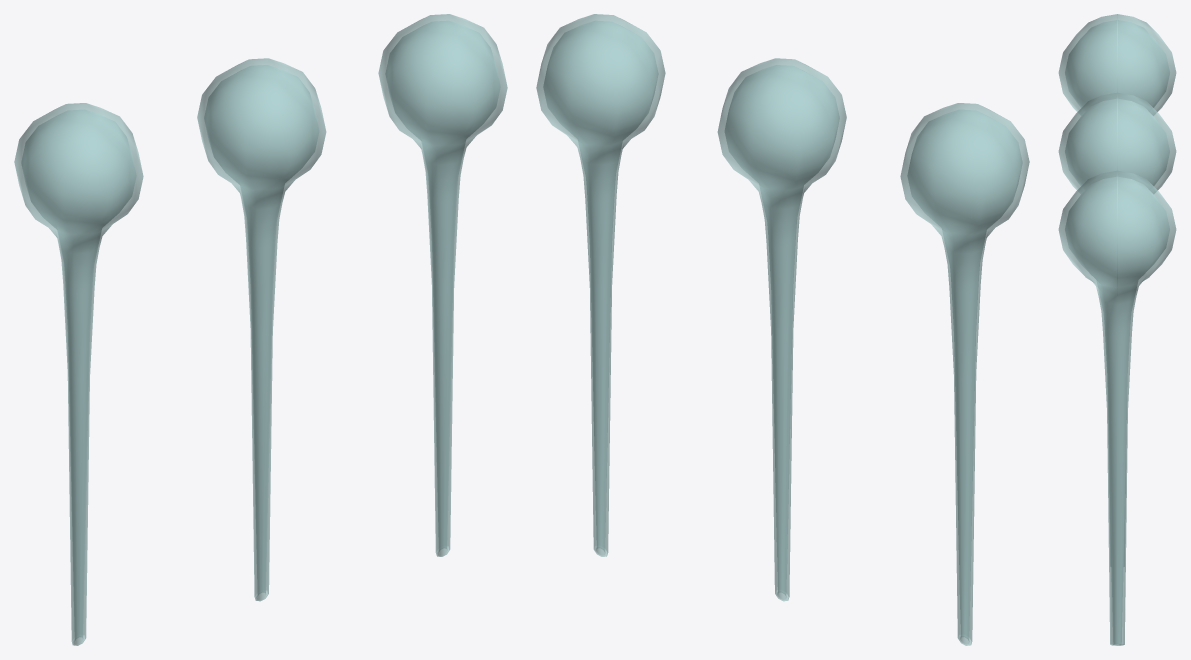
Rendered from water_globes.fbx.
The picture shows the model from 3 angles, left to right: view 1: azimuth 30°, elevation 25°; view 2: azimuth 150°, elevation 25°; view 3: azimuth 270°, elevation 25°; orthographic projection. The views are drawn at different scales.
Parts seen in each view (by area): view 1: water_globe_01, water_globe_02, water_globe_03; view 2: water_globe_03, water_globe_01, water_globe_02; view 3: water_globe_03, water_globe_01, water_globe_02.
Part boxes in pixels (x1,y1,x2,y2): water_globe_01: [197, 58, 326, 601]; water_globe_02: [14, 103, 143, 645]; water_globe_03: [378, 14, 507, 556]; water_globe_03: [536, 14, 665, 556]; water_globe_01: [717, 58, 846, 601]; water_globe_02: [900, 103, 1029, 645]; water_globe_03: [1058, 170, 1176, 645]; water_globe_01: [1058, 92, 1176, 566]; water_globe_02: [1058, 14, 1176, 115].
Bounding box in the file's own units: 27.31 × 29.12 × 6.6.
